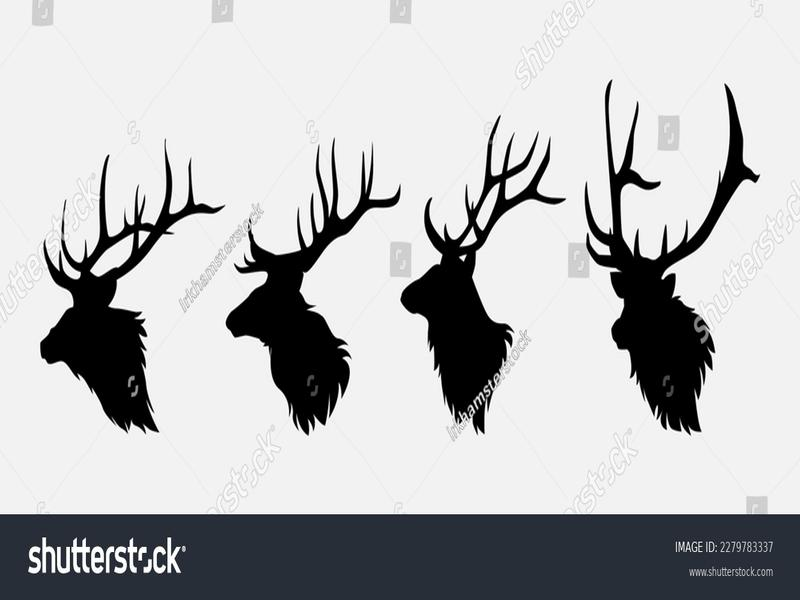elk: (580, 92, 754, 437), (27, 166, 204, 437), (399, 133, 547, 435), (222, 160, 382, 439)
